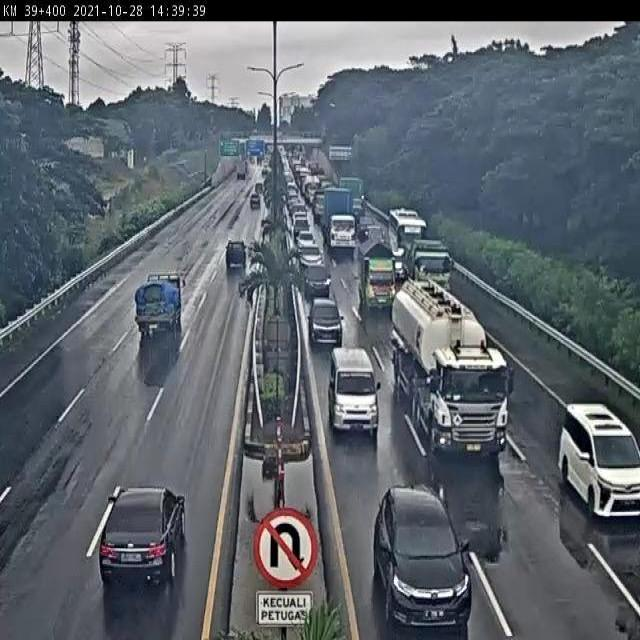big truck: (380, 260, 499, 437)
car: (373, 475, 471, 625), (71, 484, 189, 577), (548, 400, 622, 495), (327, 357, 390, 447), (216, 228, 263, 287), (314, 297, 348, 353), (304, 274, 330, 310), (301, 247, 325, 270), (240, 203, 259, 232), (245, 183, 265, 209), (299, 217, 315, 244)
small truck: (125, 263, 192, 341), (343, 223, 371, 272)
